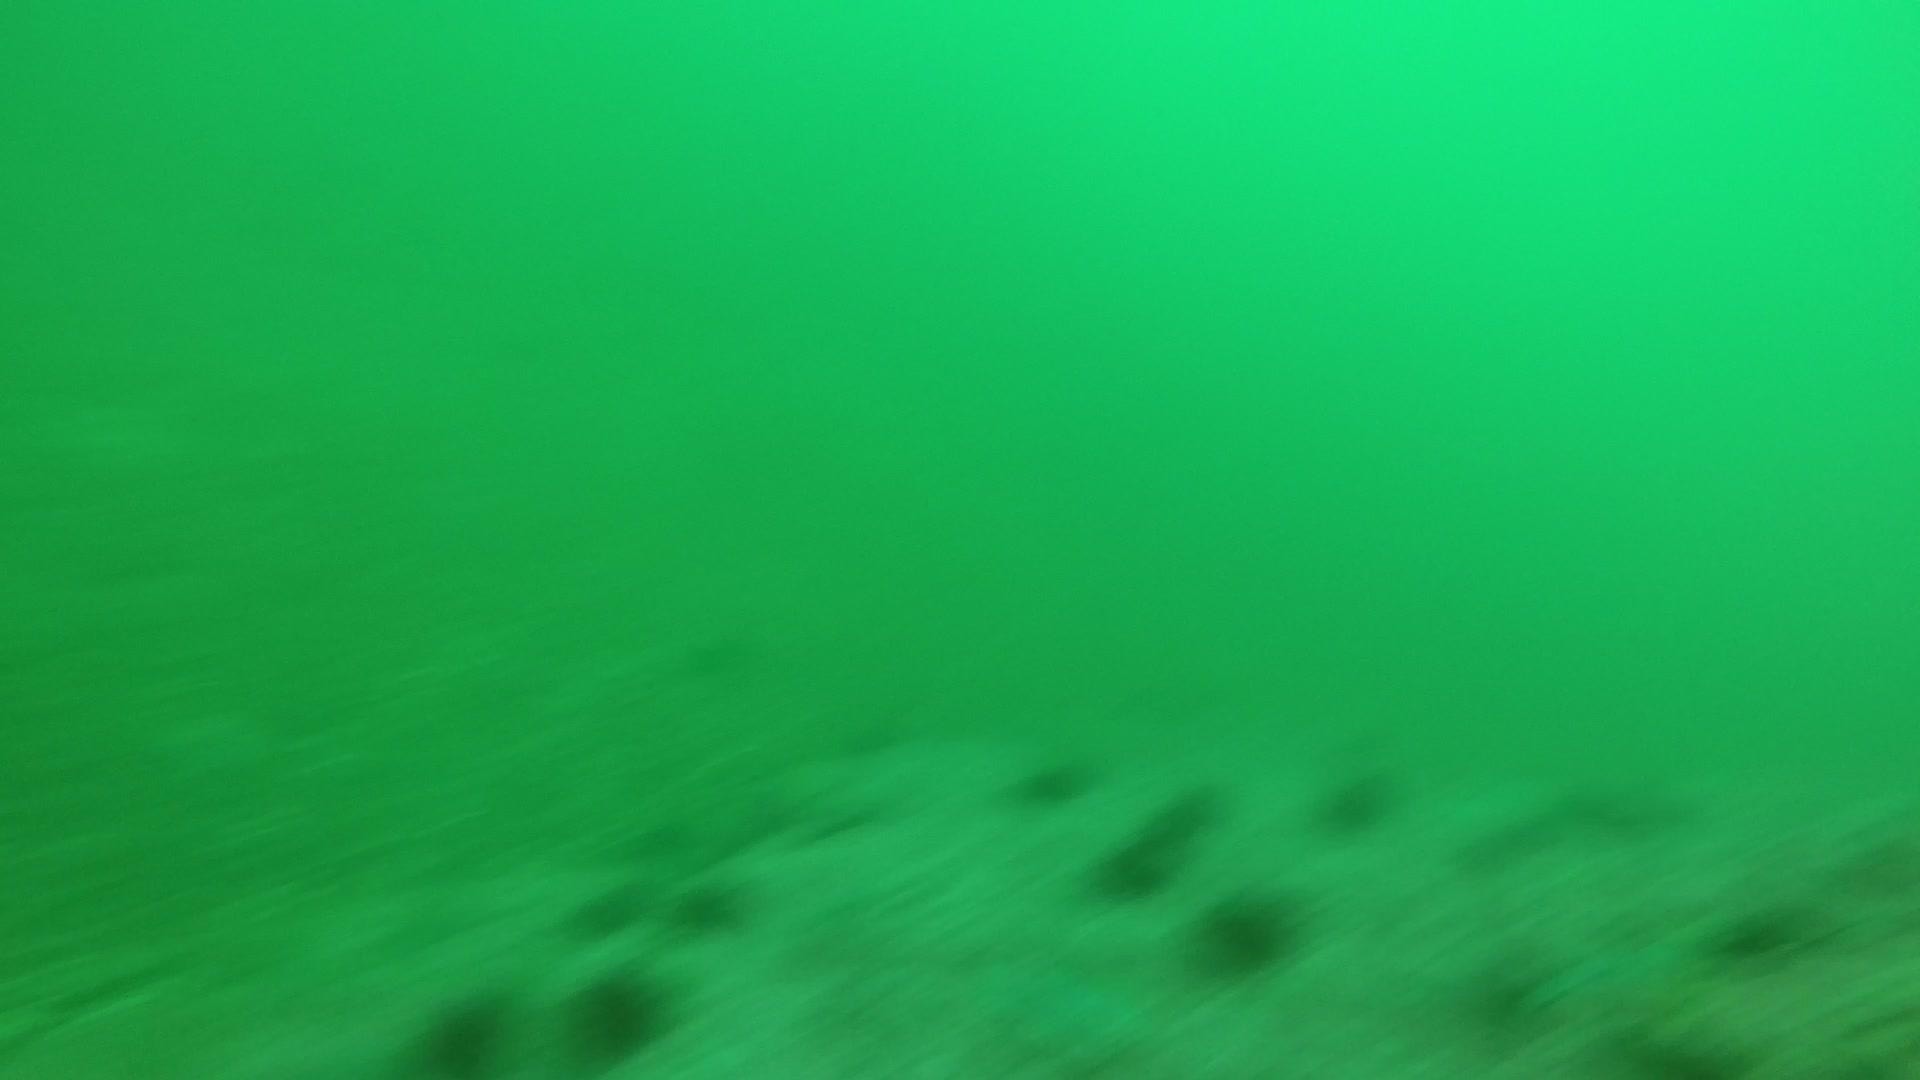echinus: (1191, 884, 1302, 978), (566, 964, 673, 1062), (414, 989, 509, 1073), (1131, 775, 1216, 861), (1313, 761, 1399, 836), (1091, 829, 1176, 905), (1712, 899, 1805, 964), (1011, 746, 1096, 810), (671, 874, 749, 938), (566, 880, 640, 943)
